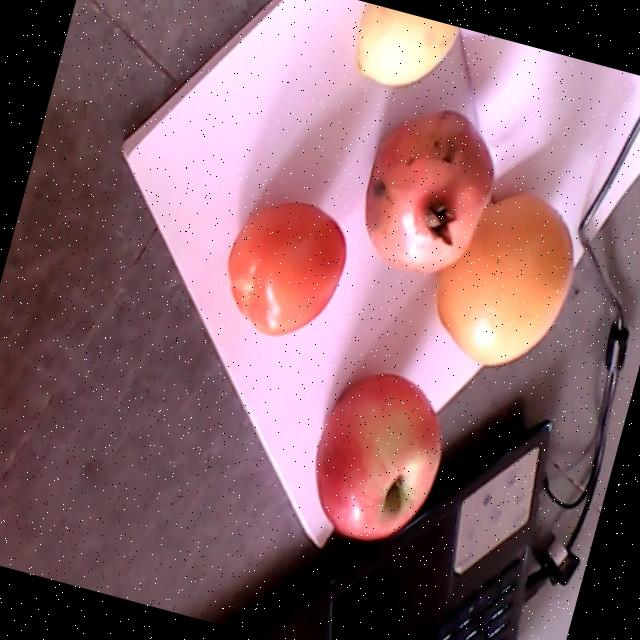apple: (314, 372, 441, 538)
lemon: (355, 2, 459, 85)
orange: (435, 193, 573, 365)
pomegranate: (363, 110, 495, 274)
tomato: (227, 201, 344, 334)
